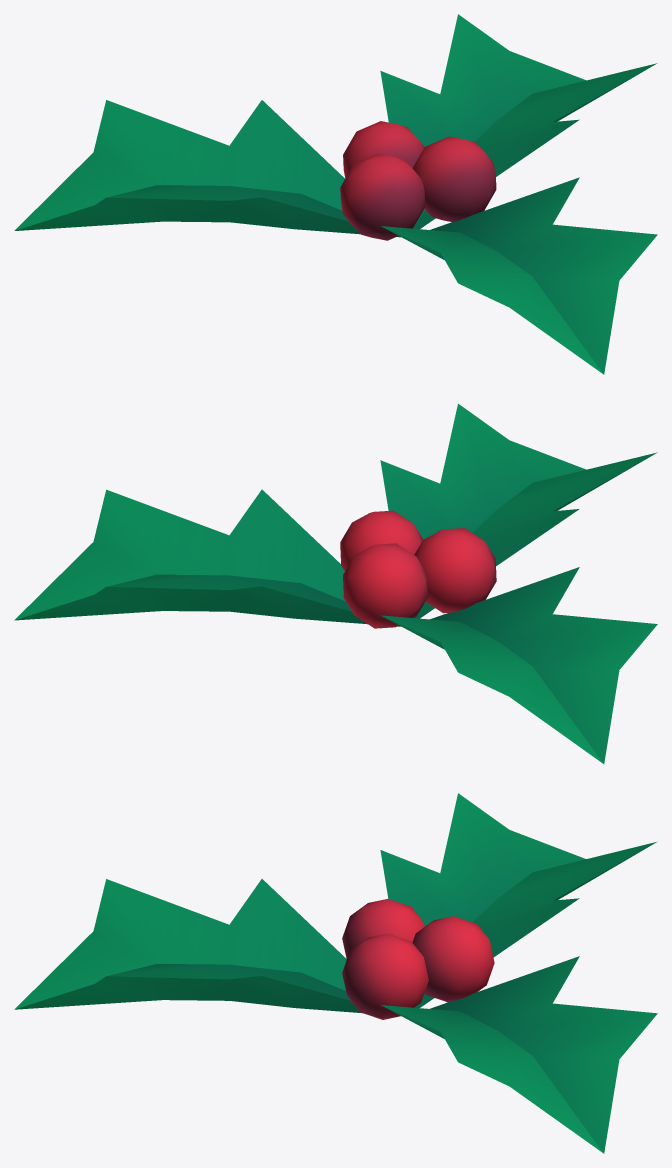
The model's file is mistletoe_B.glb.
3 renders of one model, top to bottom at view 1: azimuth 30°, elevation 25°; view 2: azimuth 150°, elevation 25°; view 3: azimuth 270°, elevation 25°, orthographic.
Visible parts, largest first — view 1: mistletoe_B; view 2: mistletoe_B; view 3: mistletoe_B.
Part boxes in pixels (box(x1,y1,x2,y2)): mistletoe_B: box(14, 14, 657, 374); mistletoe_B: box(14, 403, 657, 764); mistletoe_B: box(14, 793, 657, 1153).
Size of the model in its own units: 0.9934 by 0.1539 by 0.9388.
Materials: 1 (1 with a texture image).
